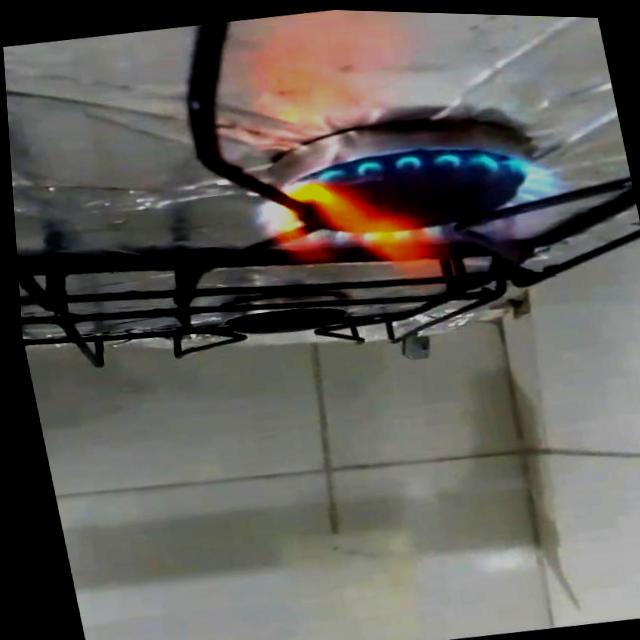helmet: (233, 128, 581, 314)
